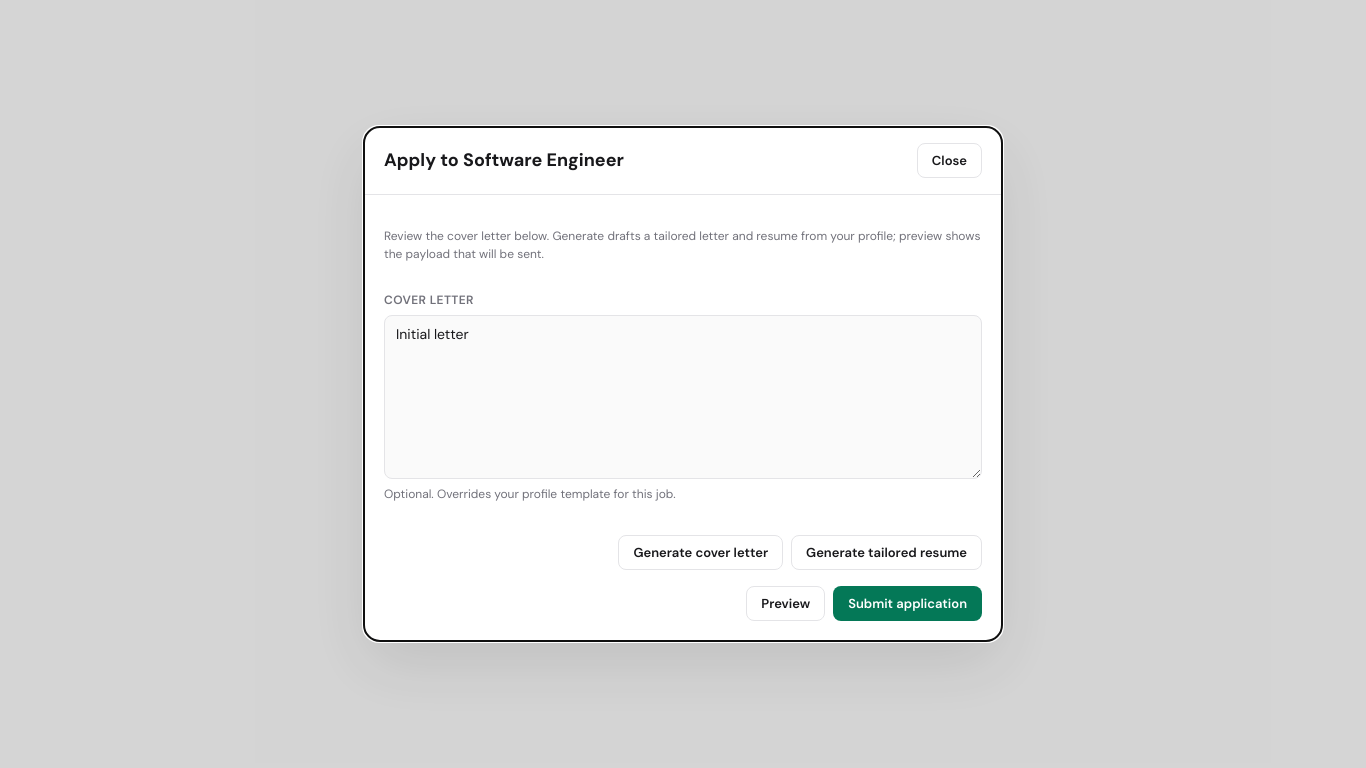
Test: ApplyJobDialog › shows the heuristic cover letter message
The width and height of the screenshot is (1366, 768).
Click the button "Generate cover letter".
click(701, 552)  # box [618,535,783,570]
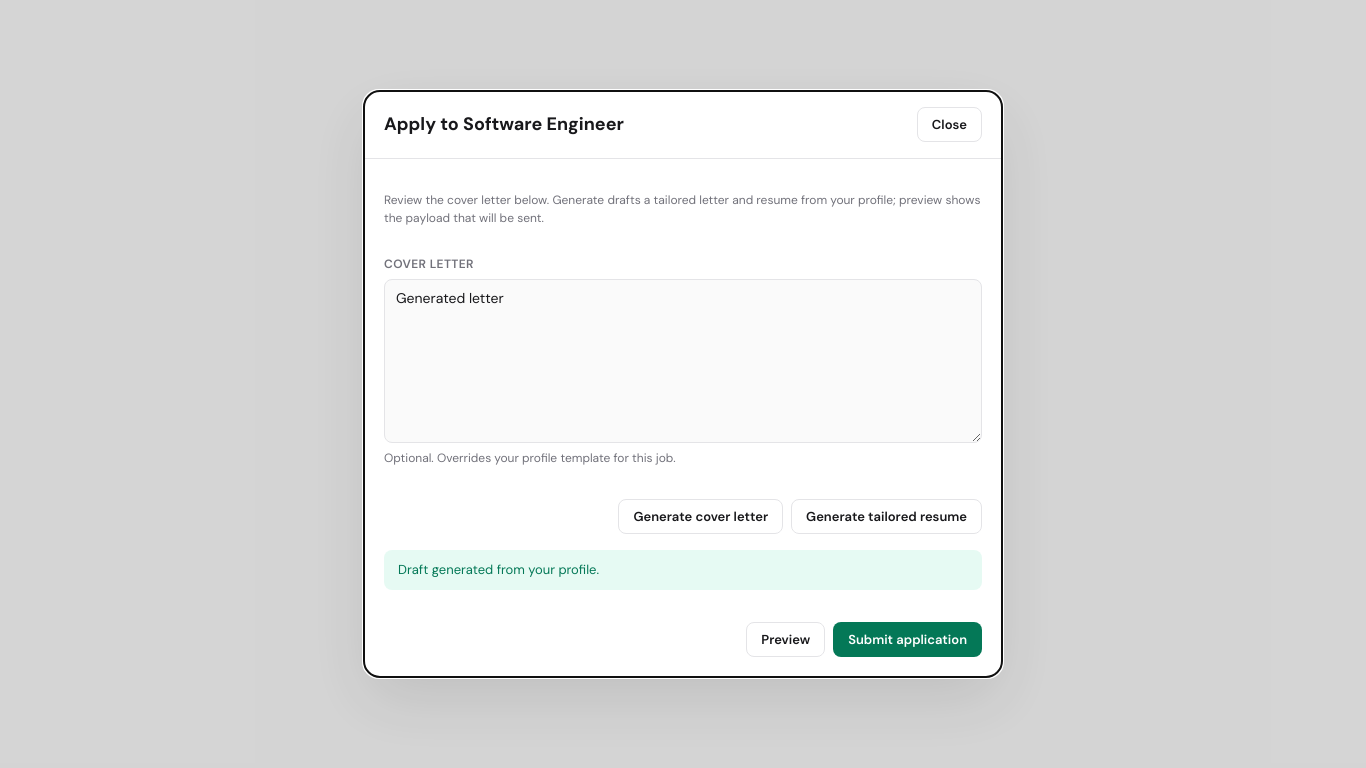
Now the text "Draft generated from your profile." is shown, box [384,550,982,590]
